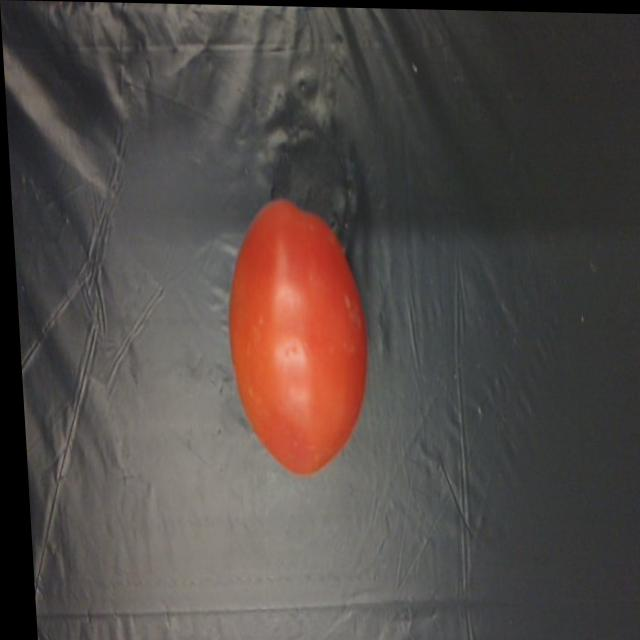kirmizi: (183, 169, 380, 484)
